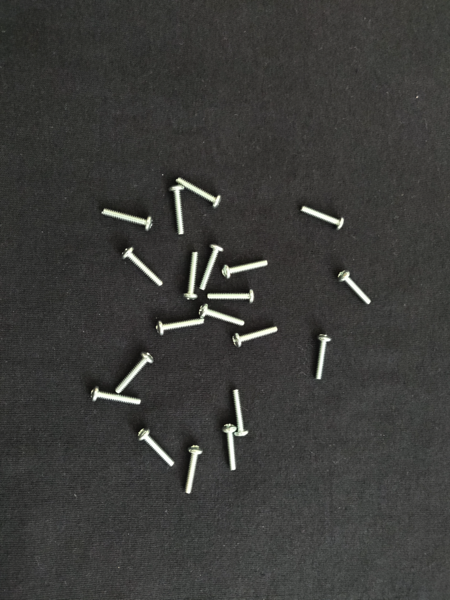longscrew: (120, 245, 166, 289), (113, 349, 156, 395), (98, 205, 160, 233), (136, 427, 176, 469), (175, 174, 222, 209), (336, 269, 373, 308), (198, 243, 226, 293), (300, 201, 345, 232), (198, 302, 248, 329), (231, 324, 281, 351), (88, 384, 144, 408), (183, 443, 206, 498), (221, 257, 271, 281), (153, 316, 206, 338), (168, 182, 189, 237), (220, 424, 240, 476), (312, 333, 333, 382), (181, 250, 200, 302), (232, 385, 250, 438), (206, 287, 256, 304)
